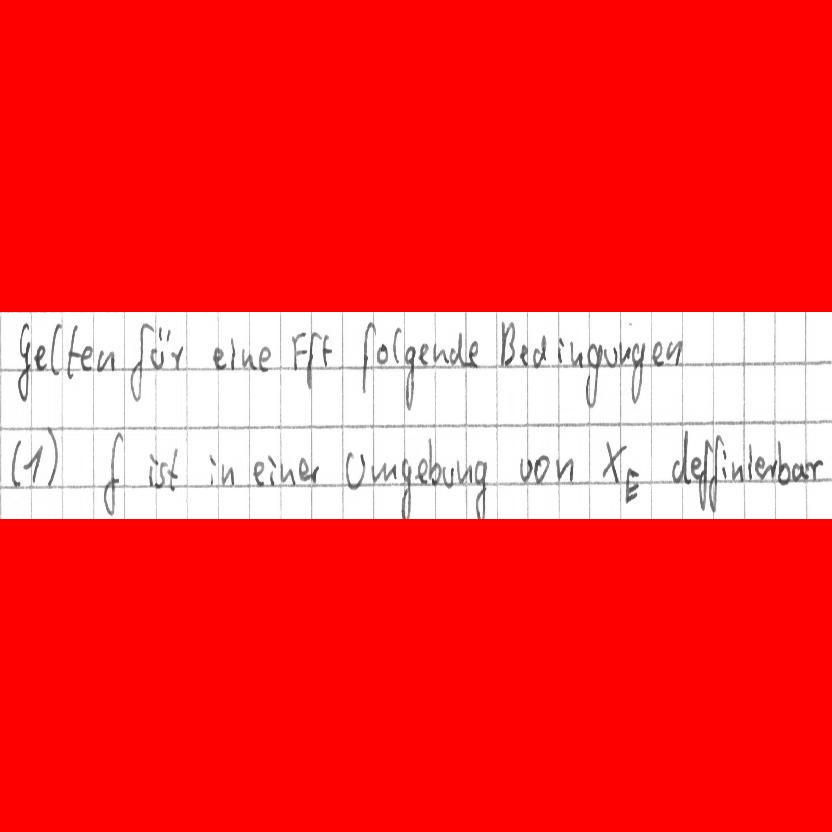Char: (100, 430, 126, 516), (128, 322, 149, 401), (14, 319, 30, 404), (671, 428, 692, 486), (599, 438, 626, 482), (360, 321, 376, 393), (696, 437, 712, 507), (585, 341, 600, 408), (629, 342, 645, 404), (149, 326, 170, 373), (65, 322, 82, 379), (705, 435, 717, 514), (397, 455, 412, 518), (23, 441, 43, 488), (343, 450, 364, 491), (403, 346, 416, 411), (473, 459, 487, 519), (291, 330, 308, 379), (305, 331, 319, 390), (500, 320, 516, 367), (9, 436, 22, 490), (49, 324, 63, 374), (372, 456, 397, 484), (777, 439, 792, 485), (623, 466, 640, 504), (45, 428, 56, 485), (428, 437, 441, 485), (448, 331, 464, 367), (317, 331, 332, 368), (95, 347, 116, 373), (166, 449, 179, 491), (532, 332, 547, 368), (237, 344, 255, 371), (555, 456, 573, 483), (256, 345, 273, 373), (455, 459, 473, 485), (218, 462, 236, 487), (568, 339, 583, 369), (535, 456, 551, 484), (281, 461, 298, 487), (78, 344, 93, 373), (34, 342, 48, 373), (392, 322, 402, 365), (415, 456, 429, 486), (718, 437, 728, 479), (519, 456, 534, 484), (212, 344, 228, 370), (666, 341, 683, 365), (251, 459, 266, 486), (206, 453, 218, 486), (753, 455, 768, 481), (267, 454, 279, 486), (807, 459, 823, 483), (790, 462, 809, 482), (467, 340, 481, 367), (431, 342, 449, 363), (731, 459, 746, 483), (555, 335, 567, 365), (601, 346, 617, 368), (148, 452, 157, 490), (170, 345, 183, 371), (375, 342, 389, 366), (297, 456, 309, 482), (418, 343, 431, 367), (618, 340, 630, 365), (690, 455, 703, 478), (442, 466, 454, 490), (651, 342, 664, 364), (156, 461, 167, 487), (229, 335, 237, 370), (746, 442, 753, 480), (520, 342, 530, 367), (309, 463, 320, 485), (768, 458, 777, 481)
